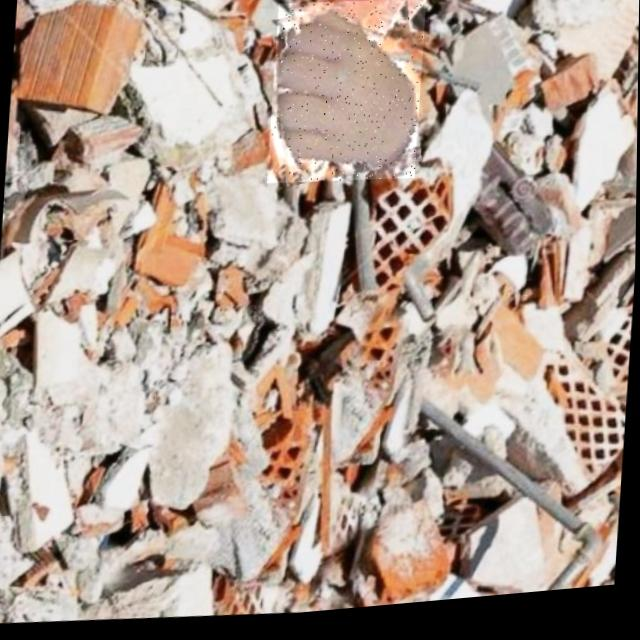Person in Rubble: (266, 0, 426, 196)
